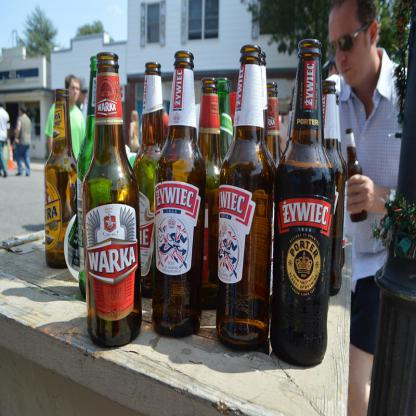drinking: (270, 38, 335, 367), (216, 43, 277, 352), (82, 52, 141, 348), (152, 50, 206, 339), (188, 78, 232, 310), (132, 61, 173, 299), (309, 80, 347, 296), (44, 89, 79, 269), (345, 129, 368, 223)
